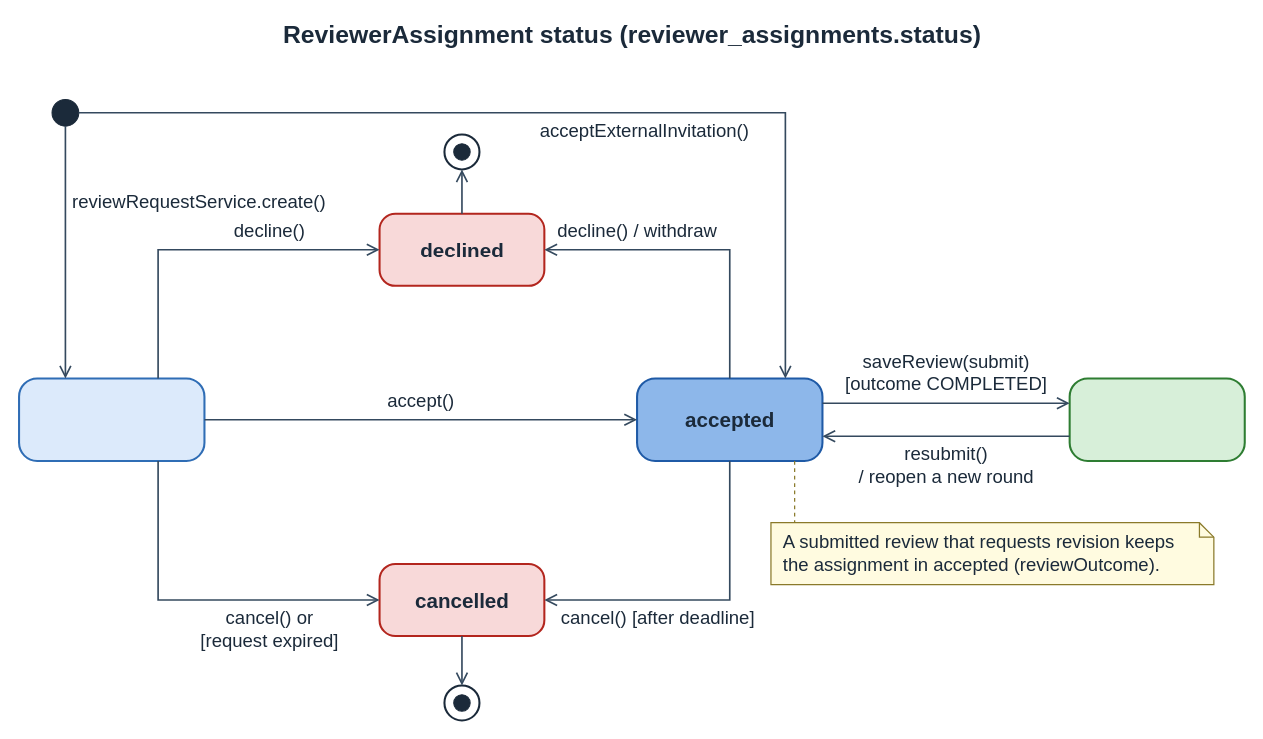
Some shapes in this 1263 by 739 pixel diagram are drawn without their labels. Here are the shapes that lost their labels. From the top down, the centre of each, then its label:
(111,419): assigned
(1156,419): completed
